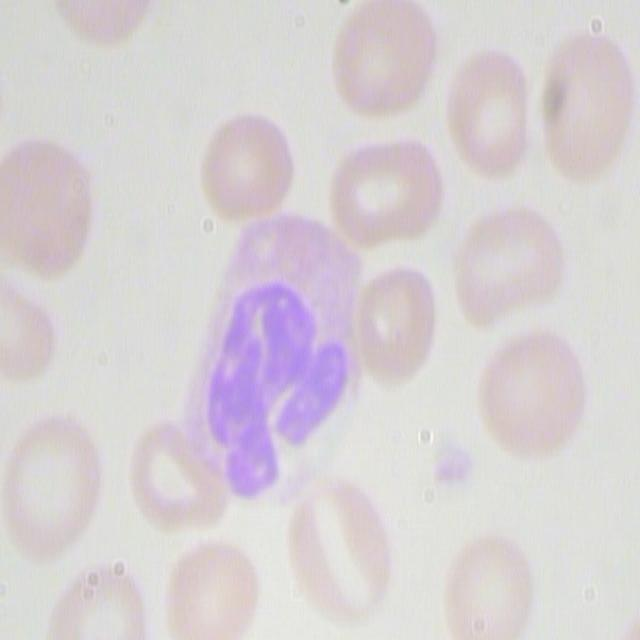RBC: (283, 474, 399, 628), (475, 319, 591, 459), (3, 408, 108, 560), (325, 127, 443, 255), (323, 0, 439, 120), (0, 136, 92, 284), (441, 43, 534, 182), (544, 34, 632, 175), (197, 105, 301, 224), (125, 420, 222, 540), (349, 255, 438, 385), (435, 528, 537, 638), (456, 212, 562, 314), (156, 533, 258, 637), (52, 561, 155, 640), (0, 294, 54, 376)
WBC: (196, 214, 364, 499)
platelets: (433, 446, 473, 489)
